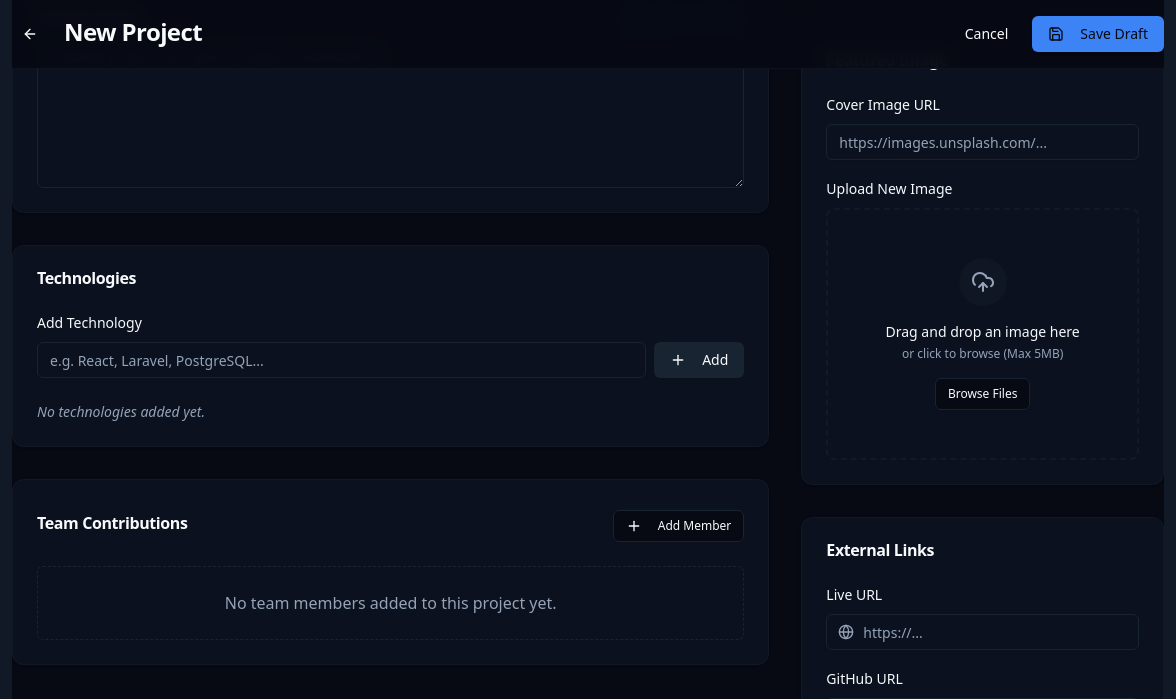
Test case: ProjectEditor › adds and removes technologies
The width and height of the screenshot is (1176, 699).
(page scrolled)
In the field labelled "Add Technology": x=342, y=360 x1=37 y1=342 x2=646 y2=378, type "React"
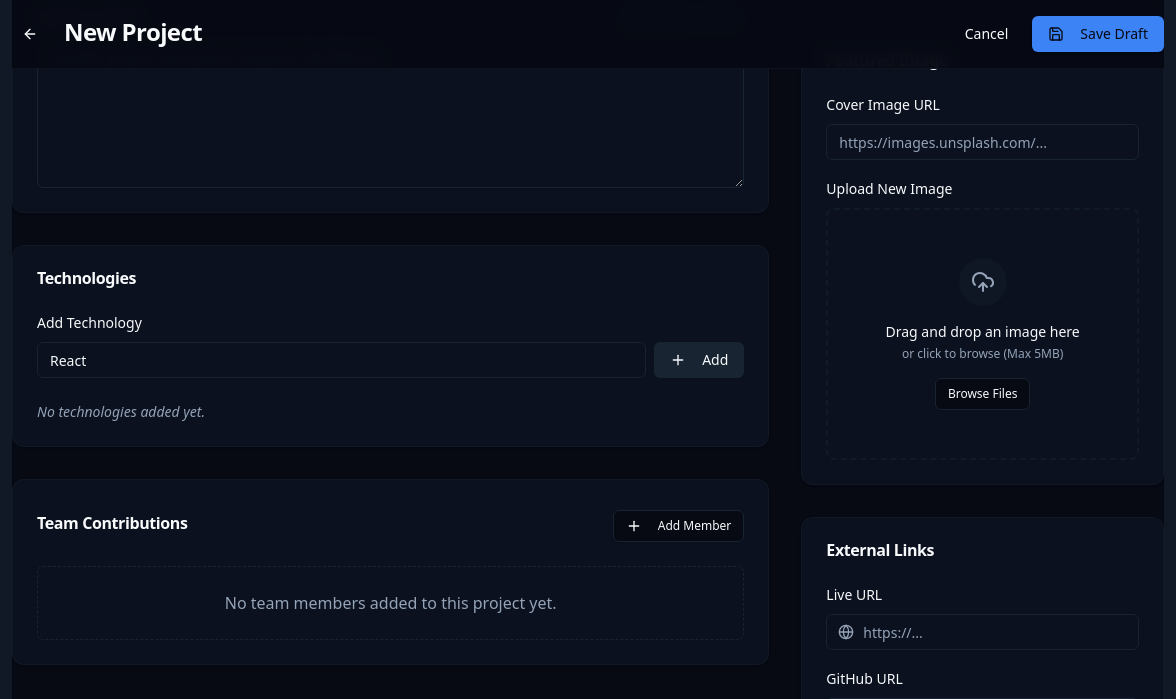
Click the button "Add": x=699, y=360 x1=654 y1=342 x2=744 y2=378
(page scrolled)
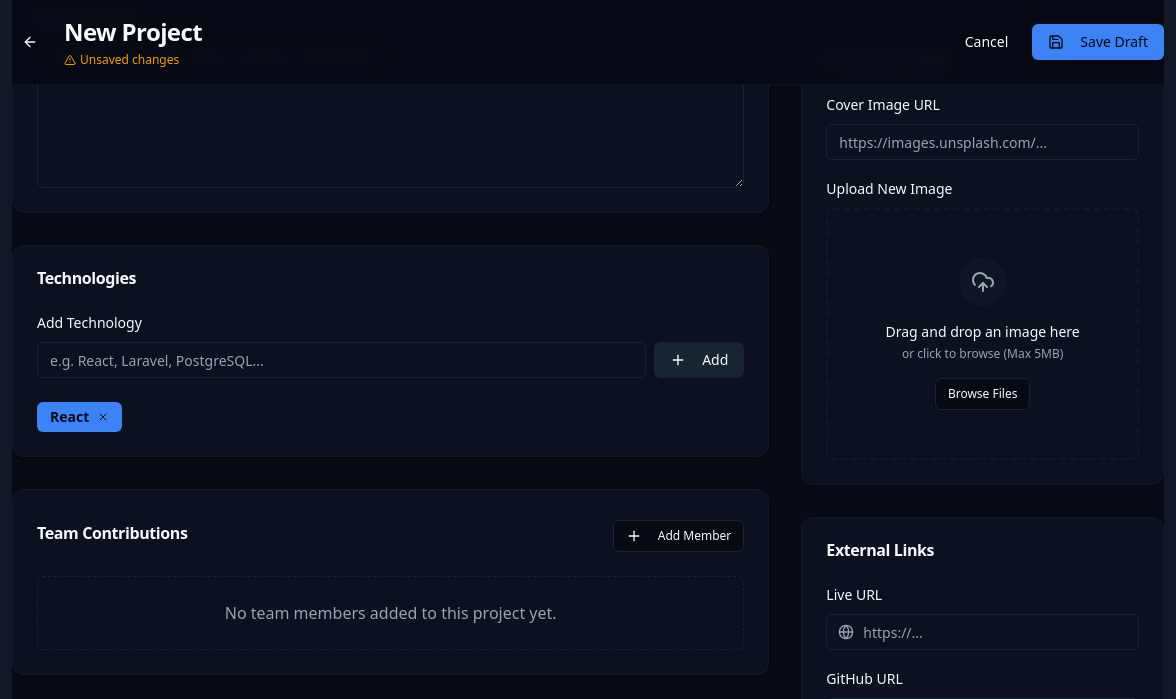
Result: the text "React" is shown at x1=37 y1=402 x2=122 y2=432
In the field labelled "Add Technology": x=342, y=360 x1=37 y1=342 x2=646 y2=378, type "Laravel"
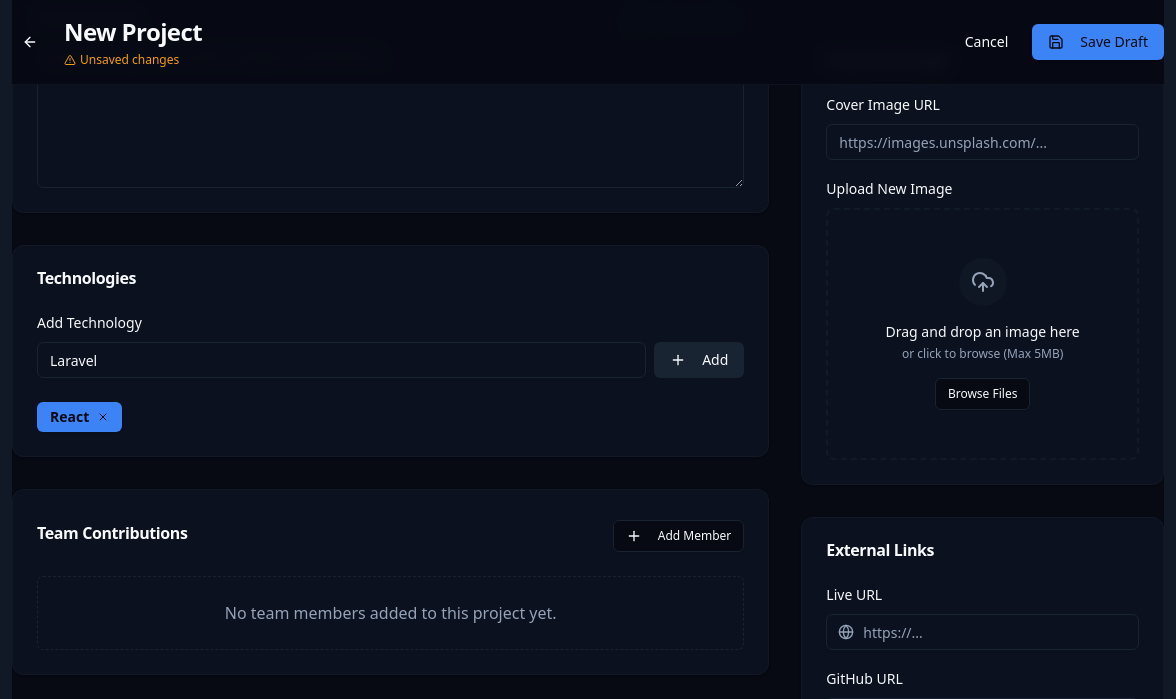
Press Enter in the field labelled "Add Technology", box x1=37 y1=342 x2=646 y2=378
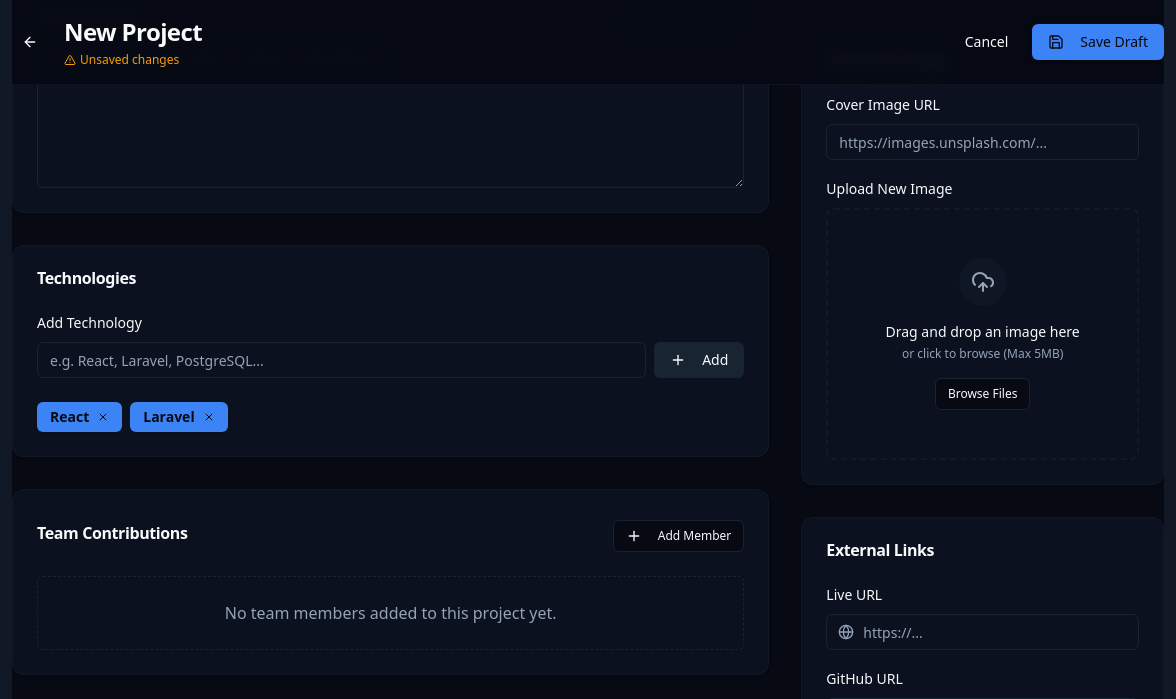
Result: the text "Laravel" is shown at x1=130 y1=402 x2=228 y2=432
